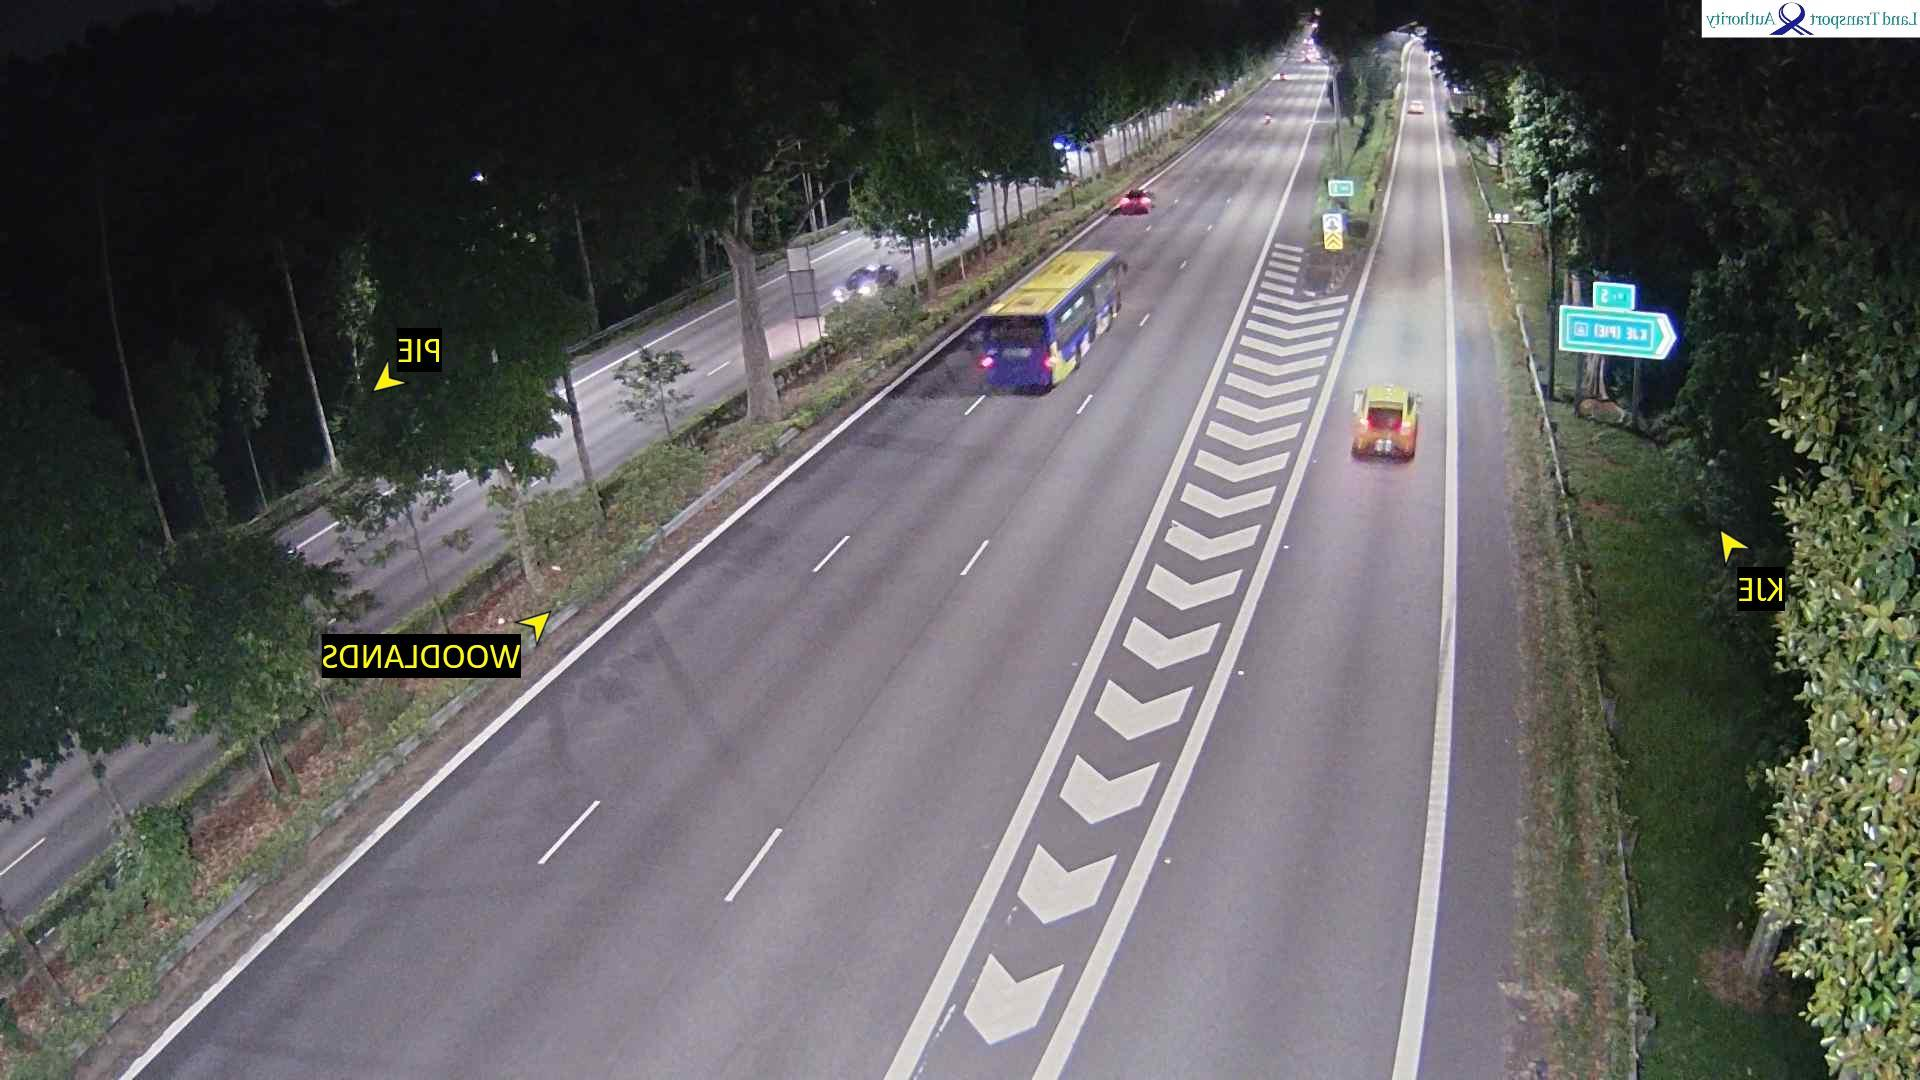bus: (971, 247, 1128, 395)
cars: (1351, 383, 1423, 461), (833, 262, 900, 304), (1113, 186, 1156, 215), (1409, 99, 1426, 113)
motorcycle: (1261, 110, 1274, 126), (1278, 68, 1289, 84)
